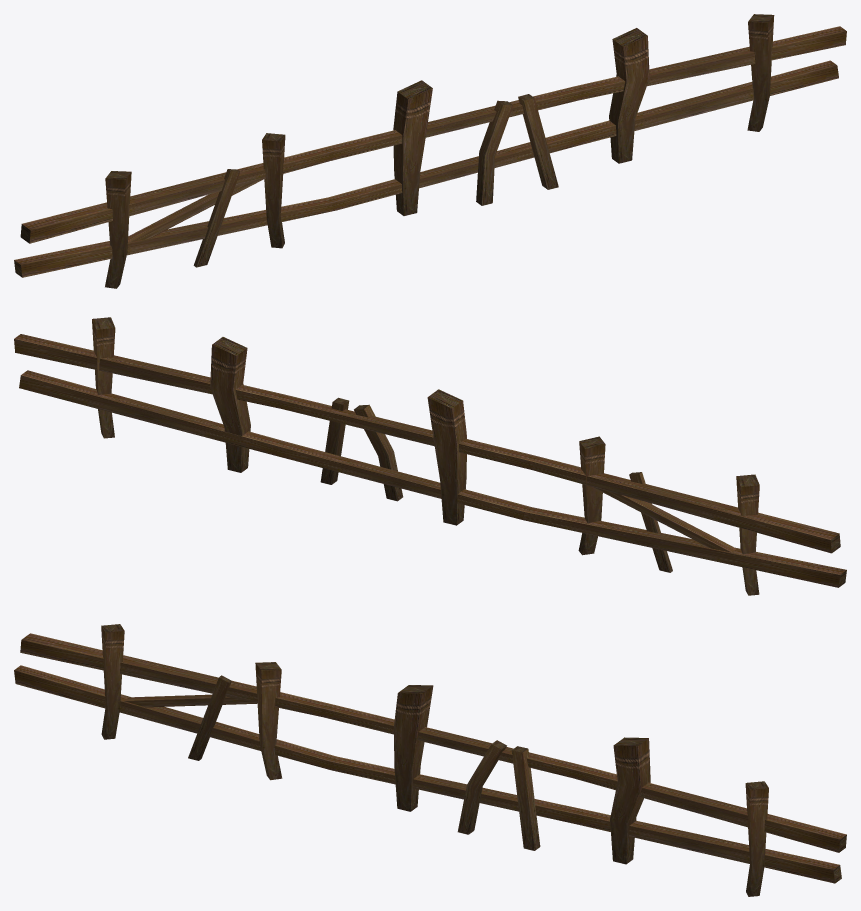
The model's file is S7_3d_xianzhalan001.FBX.
3 views of the same model, one above another, from view 1: azimuth 30°, elevation 25°; view 2: azimuth 150°, elevation 25°; view 3: azimuth 330°, elevation 25° (orthographic).
Parts seen in each view (by area): view 1: s7_3d_xinzhalan001; view 2: s7_3d_xinzhalan001; view 3: s7_3d_xinzhalan001.
Part boxes in pixels (x1=…): s7_3d_xinzhalan001: x1=14, y1=14, x2=846, y2=288; s7_3d_xinzhalan001: x1=14, y1=317, x2=846, y2=595; s7_3d_xinzhalan001: x1=14, y1=624, x2=846, y2=896.
Bounding box in the file's own units: 8.71 × 1.24 × 0.3302.
Materials: 1 (1 with a texture image).
